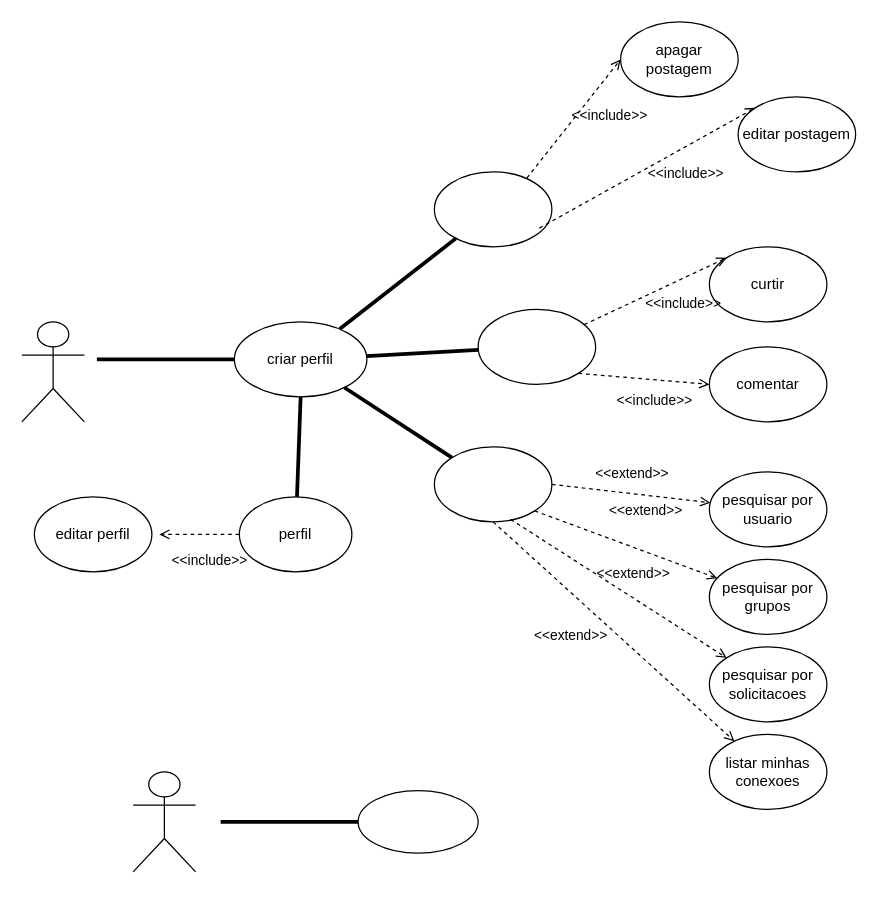
Some shapes in this 878 by 920 pixel diagram are drawn without their labels. The shapes that lost their labels are listed below. From the top down, each one's centre as x and y in pixels, then its label:
At pixel 492 209: "criar postagem".
At pixel 536 346: "ler postagem".
At pixel 52 371: "Usuario".
At pixel 492 484: "pesquisar".
At pixel 164 821: "Administrador".
At pixel 417 821: "administrar conteudos".
